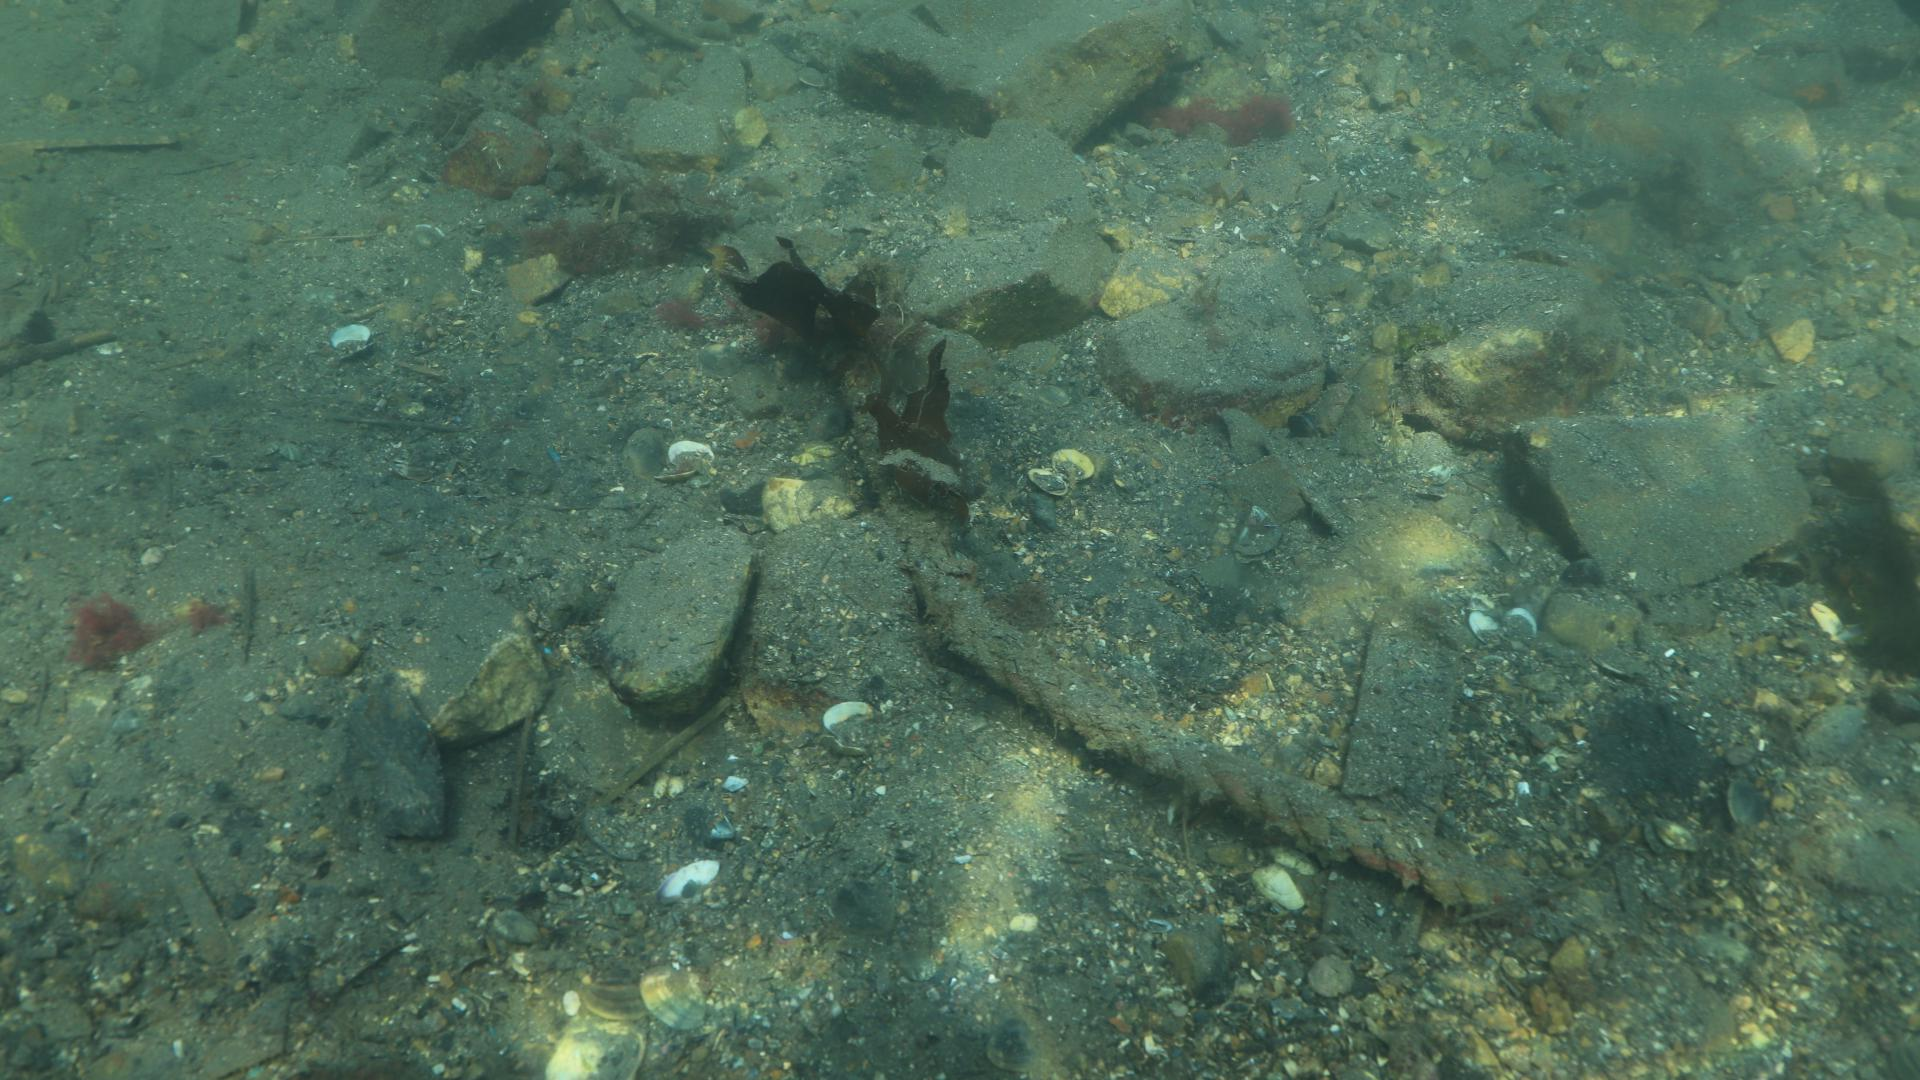rope: (872, 476, 1536, 914)
